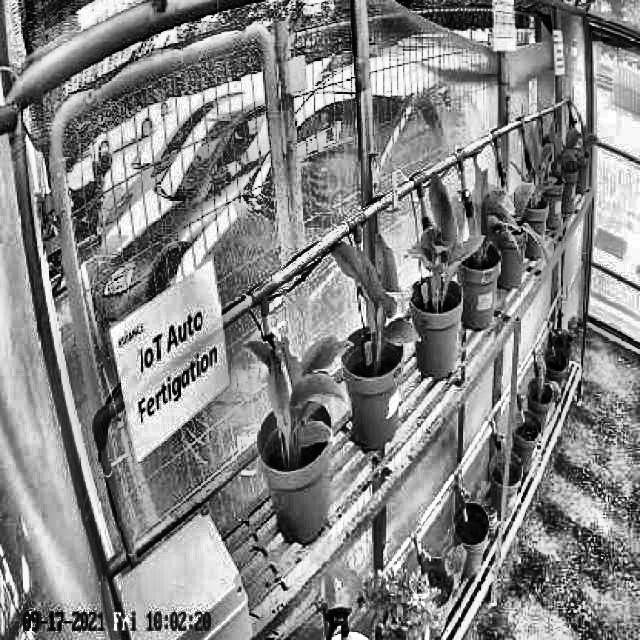plants: (246, 326, 346, 464), (330, 234, 421, 374), (408, 172, 486, 314), (453, 171, 549, 275)
